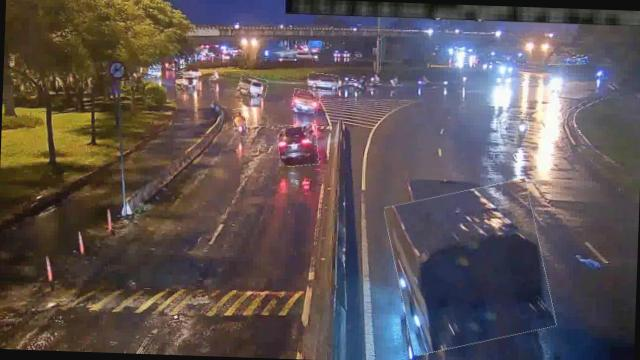Bike: (232, 108, 248, 138), (515, 116, 529, 144)
Car: (278, 123, 318, 167), (291, 90, 320, 114), (307, 72, 340, 92), (238, 76, 268, 97), (176, 74, 198, 90)
Truck: (386, 182, 554, 354)
